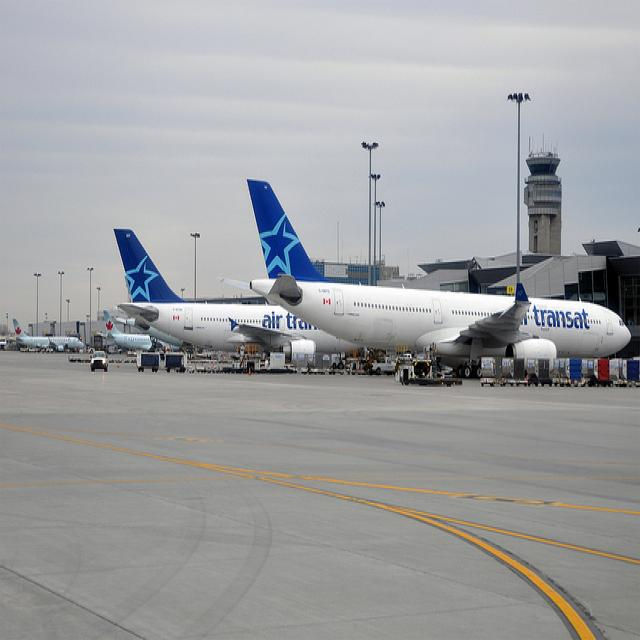Vehicle: (136, 349, 161, 376), (164, 351, 187, 374), (90, 350, 110, 372), (372, 358, 396, 373)
